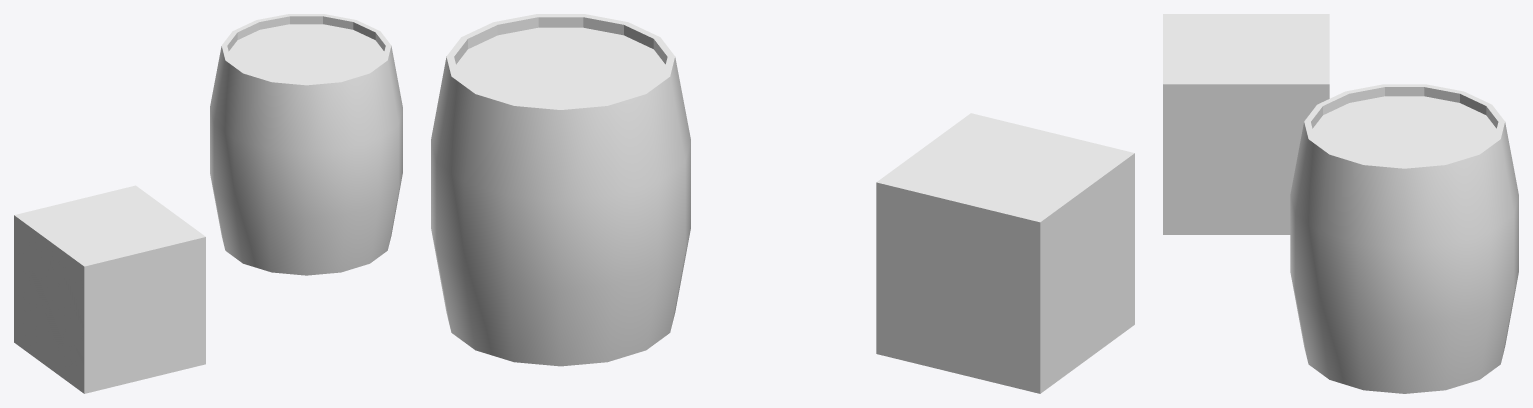
The model's file is wood hurdle.fbx.
3 renders of one model, left to right at view 1: azimuth 30°, elevation 25°; view 2: azimuth 150°, elevation 25°; view 3: azimuth 270°, elevation 25°, orthographic. The views are drawn at different scales.
Visible parts, largest first — view 1: pCylinder4, Cube.002; view 2: pCylinder4, Cube.002; view 3: pCylinder4, Cube.002.
Part boxes in pixels (left/top/right/bottom): pCylinder4: left=210, top=14, right=402, bottom=275; Cube.002: left=14, top=185, right=205, bottom=393; pCylinder4: left=431, top=14, right=690, bottom=366; Cube.002: left=876, top=113, right=1134, bottom=393; pCylinder4: left=1290, top=84, right=1518, bottom=393; Cube.002: left=1163, top=14, right=1329, bottom=234.
Bounding box in the file's own units: 557 × 249 × 355.
